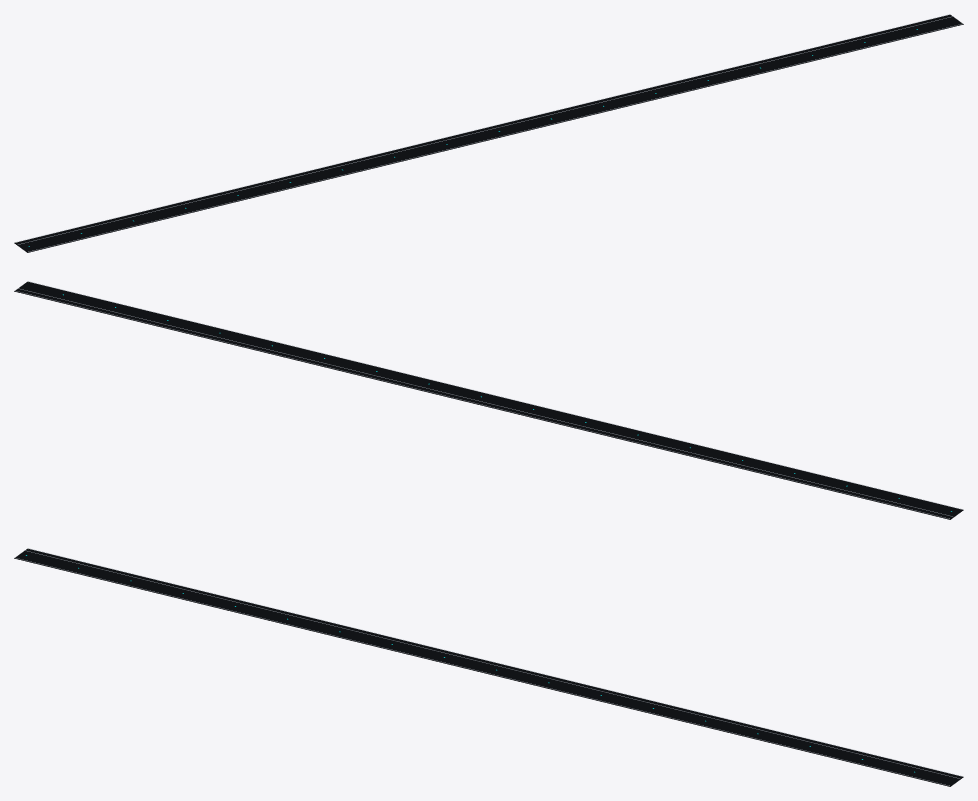
The model's file is tt_trk_straight_ew.glb.
3 renders of one model, top to bottom at view 1: azimuth 30°, elevation 25°; view 2: azimuth 150°, elevation 25°; view 3: azimuth 330°, elevation 25°, orthographic.
Parts seen in each view (by area): view 1: Track_Bed, Lane_Paint; view 2: Track_Bed, Lane_Paint; view 3: Track_Bed, Lane_Paint.
Boxes of the visible parts, x1=… form: Track_Bed: x1=14, y1=14, x2=963, y2=252; Lane_Paint: x1=14, y1=14, x2=963, y2=251; Track_Bed: x1=14, y1=281, x2=963, y2=519; Lane_Paint: x1=14, y1=281, x2=963, y2=518; Track_Bed: x1=14, y1=548, x2=963, y2=786; Lane_Paint: x1=14, y1=548, x2=963, y2=785.
Size of what is drawn, in the model's own units: 71.7 by 0.069 by 1.8.
4 materials, 2 textured.
